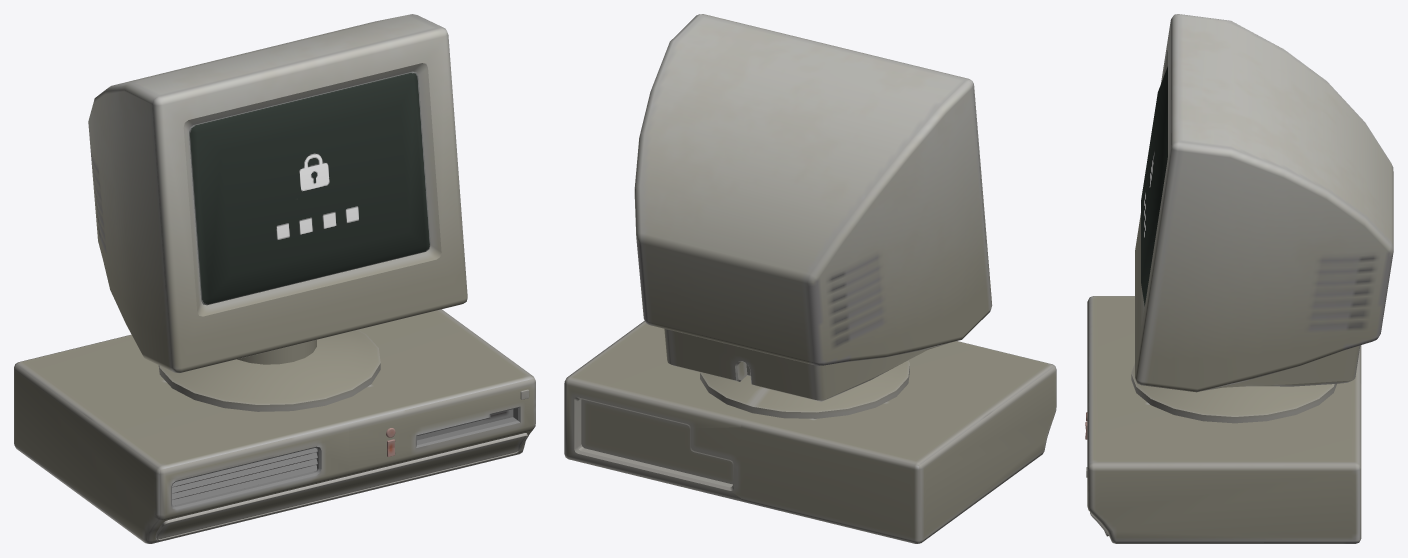
Rendered from SM_prop_Laboratory_Computer.fbx.
3 views of the same model, side by side, from view 1: azimuth 30°, elevation 25°; view 2: azimuth 150°, elevation 25°; view 3: azimuth 270°, elevation 25° (orthographic). The views are drawn at different scales.
Parts seen in each view (by area): view 1: SM_prop_Laboratory_Computer; view 2: SM_prop_Laboratory_Computer; view 3: SM_prop_Laboratory_Computer.
Part boxes in pixels (box(x1,y1,x2,y2)): SM_prop_Laboratory_Computer: box(14, 14, 535, 543); SM_prop_Laboratory_Computer: box(564, 14, 1056, 543); SM_prop_Laboratory_Computer: box(1085, 14, 1393, 543).
Size of the model in its own units: 55.78 by 57.82 by 42.22.
1 material, 1 textured.
